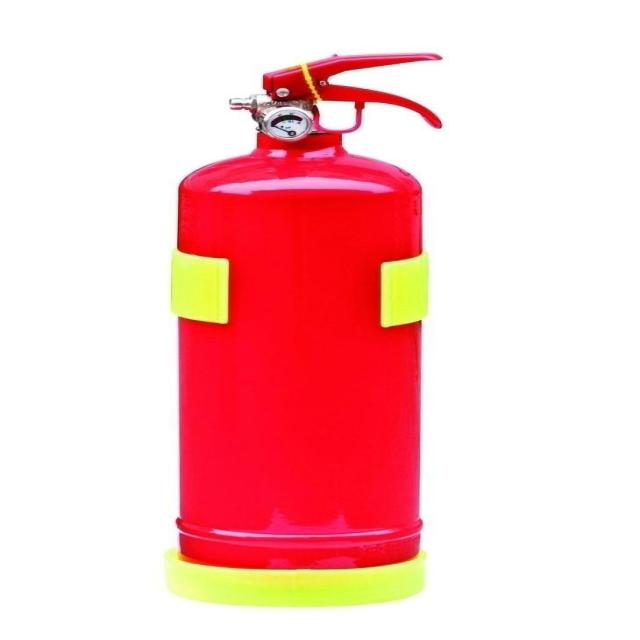fire_extinguisher: (167, 49, 449, 602)
